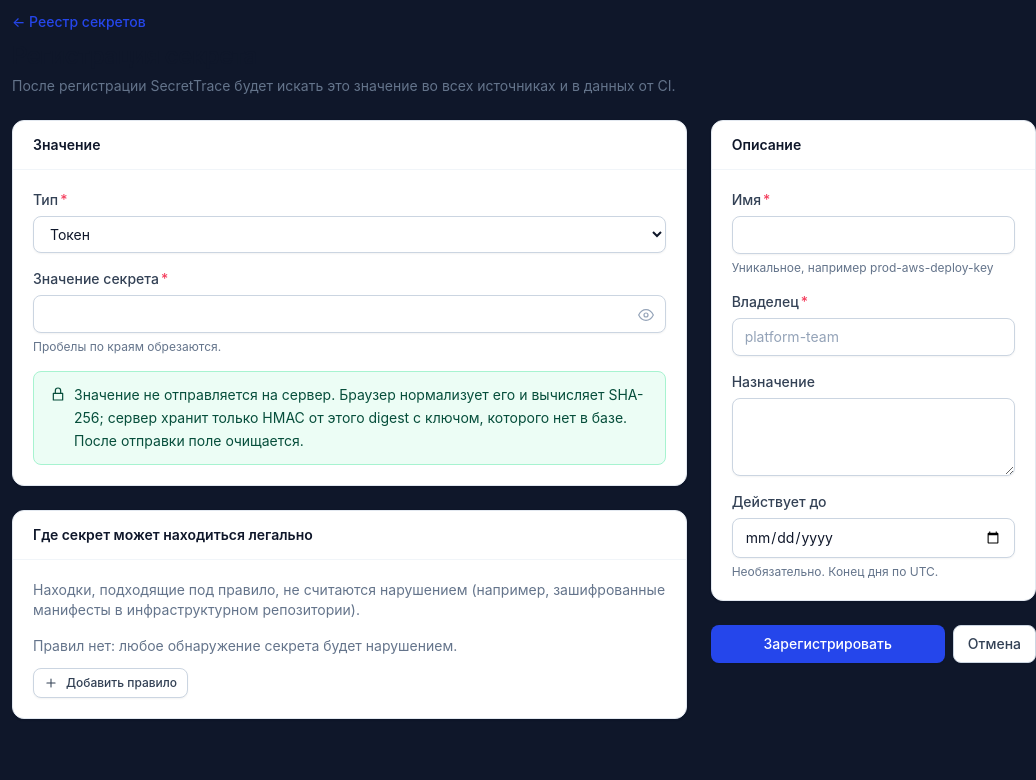
secret registration › validates locally and does not submit invalid values
The width and height of the screenshot is (1036, 780).
Type "x" into the field labelled "Имя*" at (873, 235), box [732,216,1015,254]
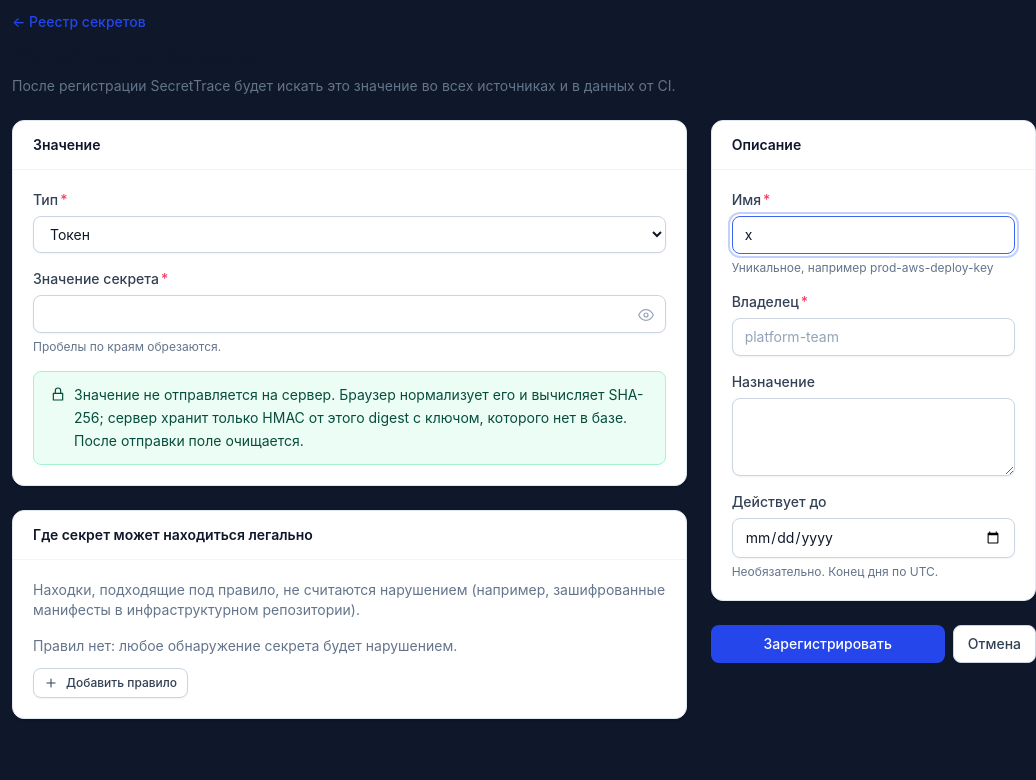
Type "y" into the field labelled "Владелец*" at (873, 337), box [732,318,1015,356]
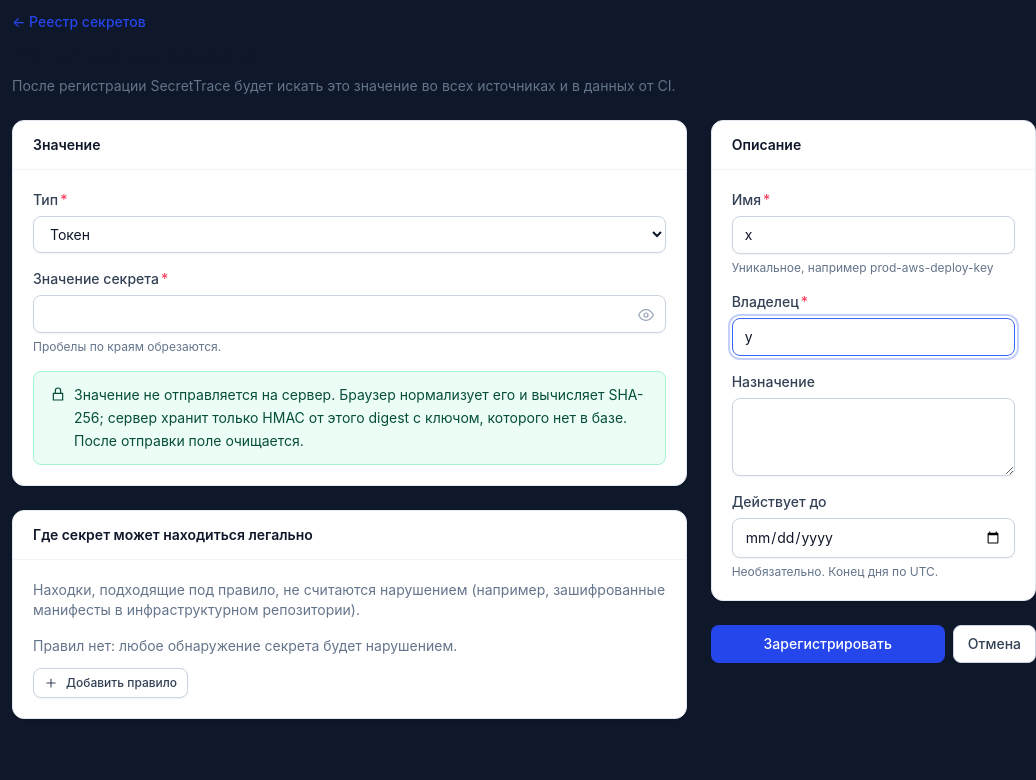
Type "abc" into the password field labelled "Значение секрета*" at (349, 314), box [33,295,666,333]
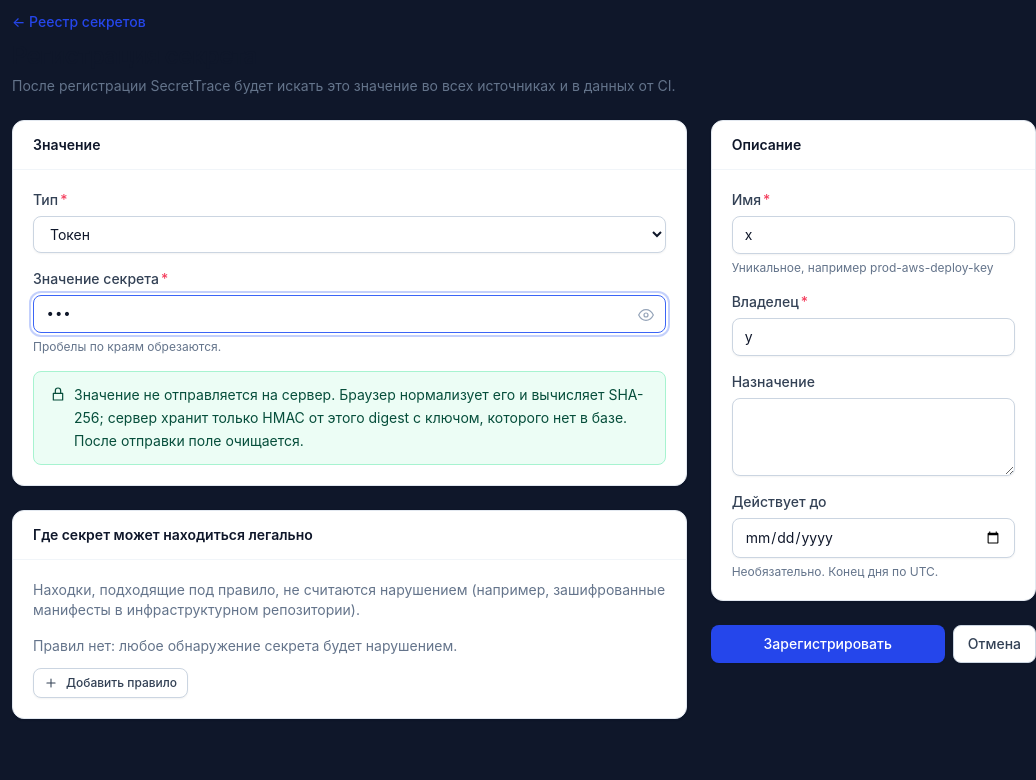
Click the button "Зарегистрировать" at (828, 644), box [711,625,945,663]
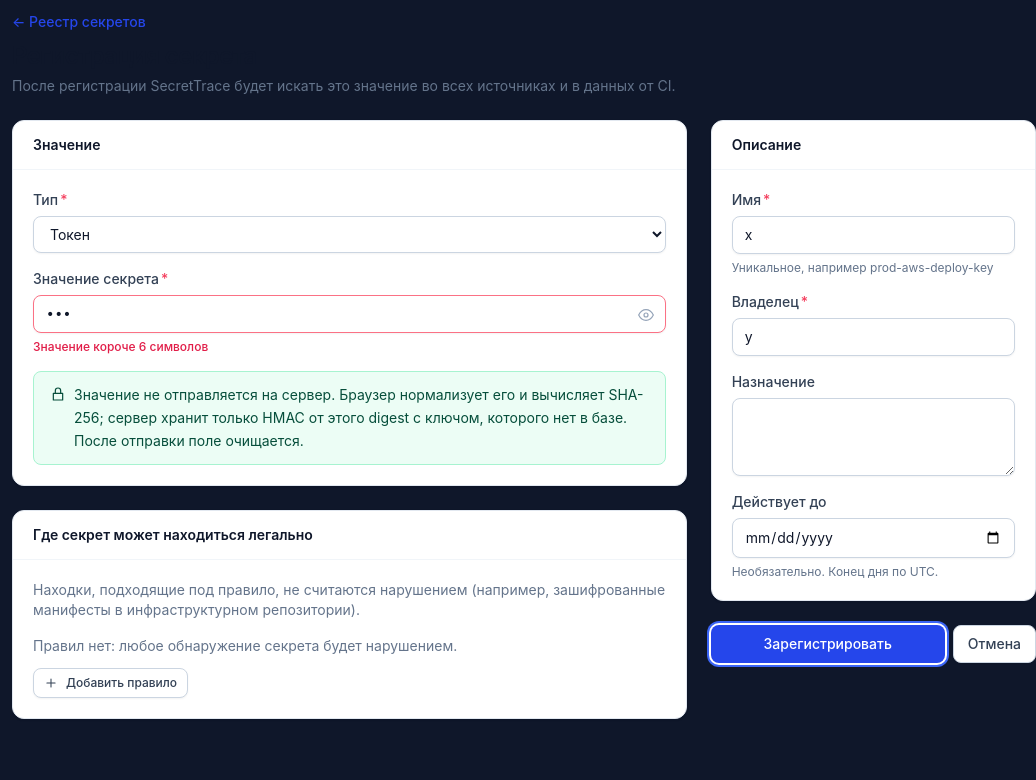
Expected: the text "Значение короче 6 символов" is shown, [33,339,208,354]
